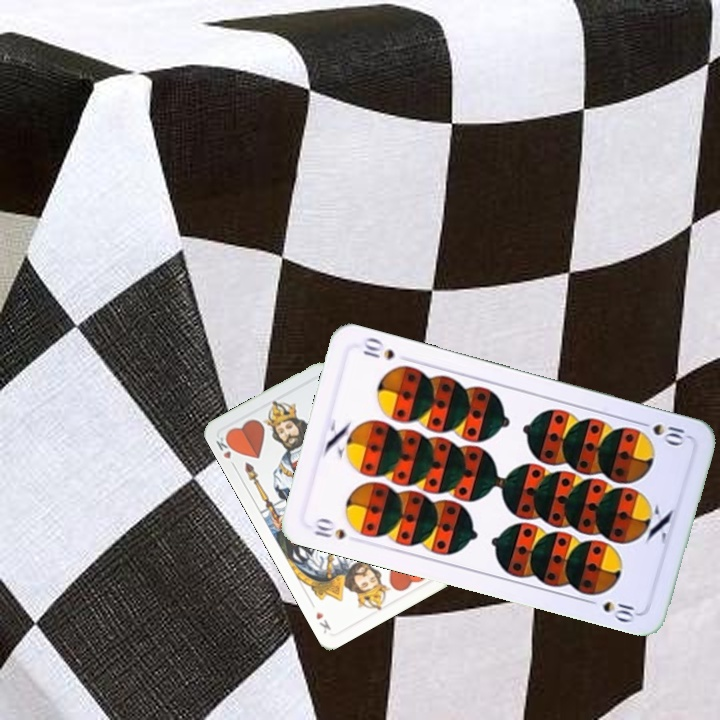HK: (212, 431, 239, 462)
S10: (633, 416, 691, 447), (309, 514, 349, 543)
